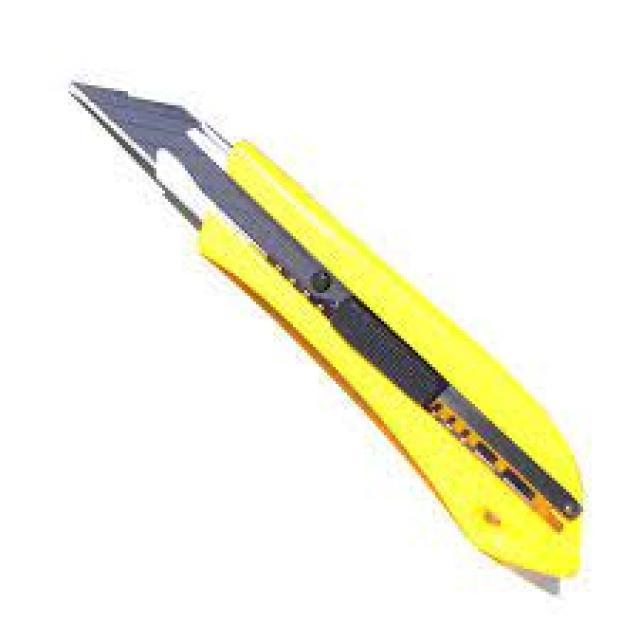cutter: (59, 69, 598, 602)
